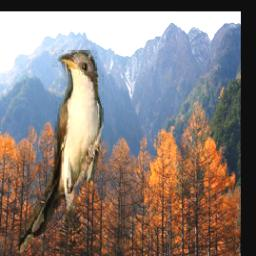Cuckoo: (16, 51, 104, 256)
